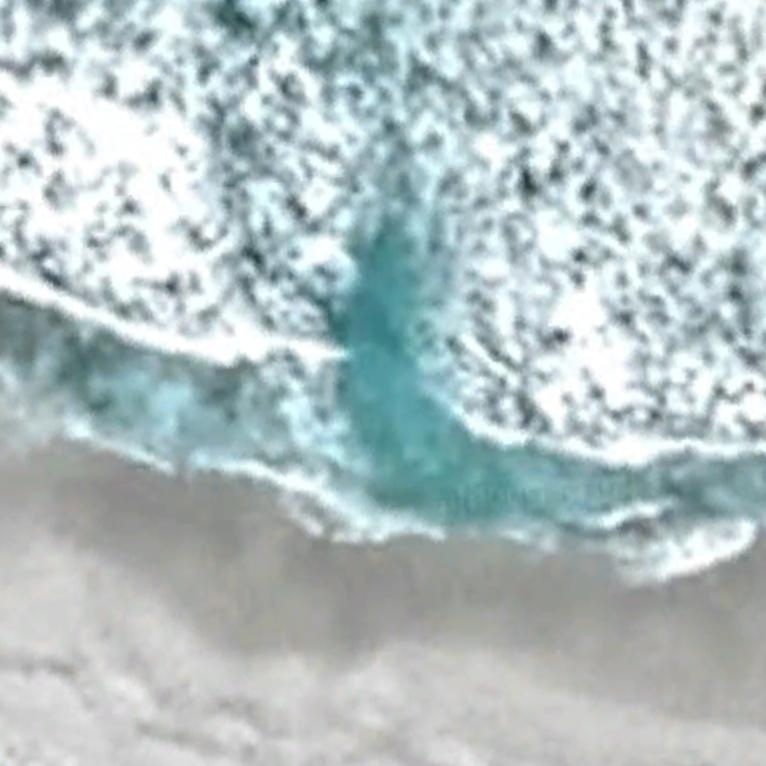rip_current: (290, 130, 533, 518)
